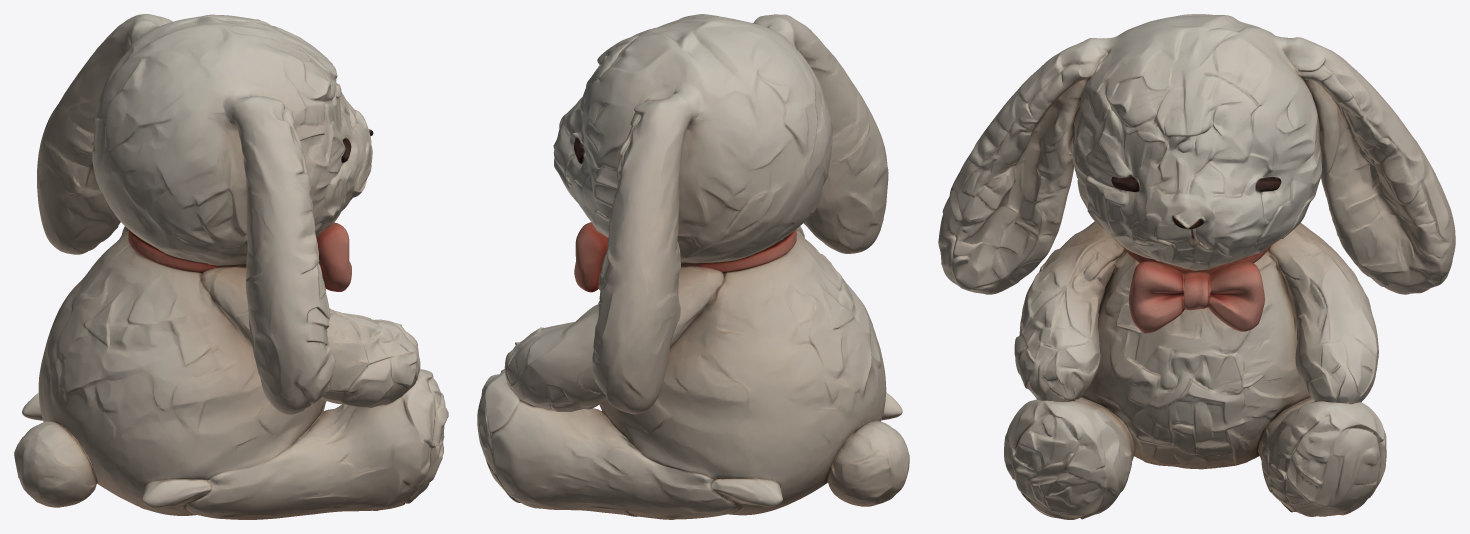
Rendered from a-single-adorable-chunky-stuffed-bunny-t-cmuy4n9e.glb.
The picture shows the model from 3 angles, left to right: view 1: azimuth 30°, elevation 25°; view 2: azimuth 150°, elevation 25°; view 3: azimuth 270°, elevation 25°; orthographic projection. The views are drawn at different scales.
Visible parts, largest first — view 1: tripo_node_4b789123-36d9-4d90-89e5-4a16ee4a1d6f; view 2: tripo_node_4b789123-36d9-4d90-89e5-4a16ee4a1d6f; view 3: tripo_node_4b789123-36d9-4d90-89e5-4a16ee4a1d6f.
Boxes of the visible parts, x1=… form: tripo_node_4b789123-36d9-4d90-89e5-4a16ee4a1d6f: x1=14, y1=14, x2=448, y2=519; tripo_node_4b789123-36d9-4d90-89e5-4a16ee4a1d6f: x1=477, y1=14, x2=909, y2=519; tripo_node_4b789123-36d9-4d90-89e5-4a16ee4a1d6f: x1=938, y1=14, x2=1455, y2=519.
Bounding box in the file's own units: 0.7773 × 0.9453 × 1.
1 material, 1 textured.
